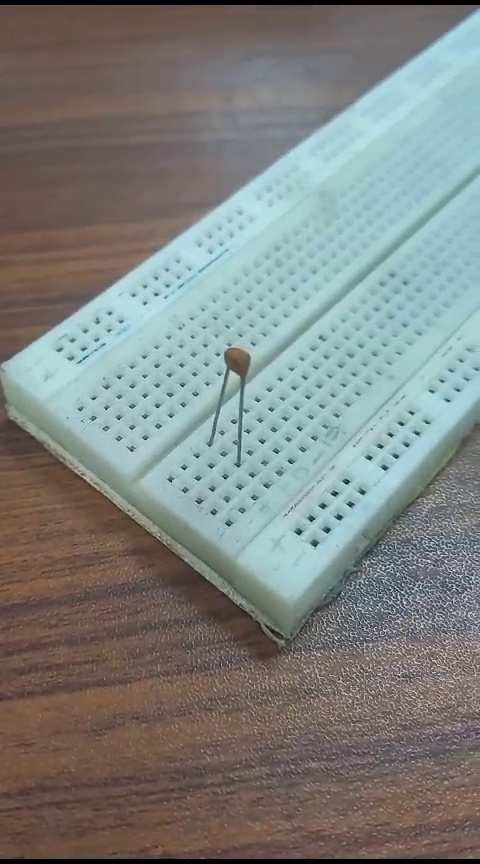ceramic capacitor: (194, 339, 272, 471)
